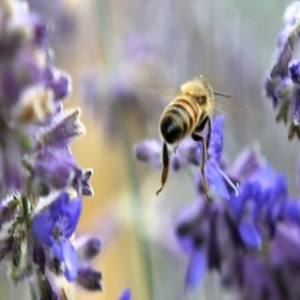bee: (141, 72, 240, 206)
